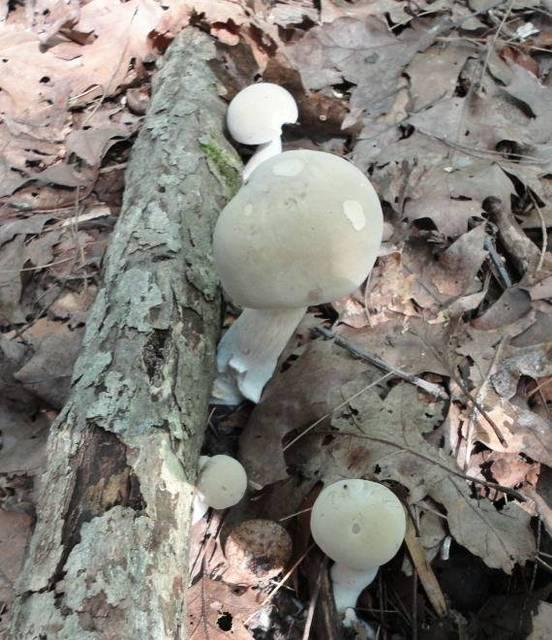edible_mushroom: (209, 146, 384, 405), (308, 477, 406, 629), (225, 80, 298, 183)
